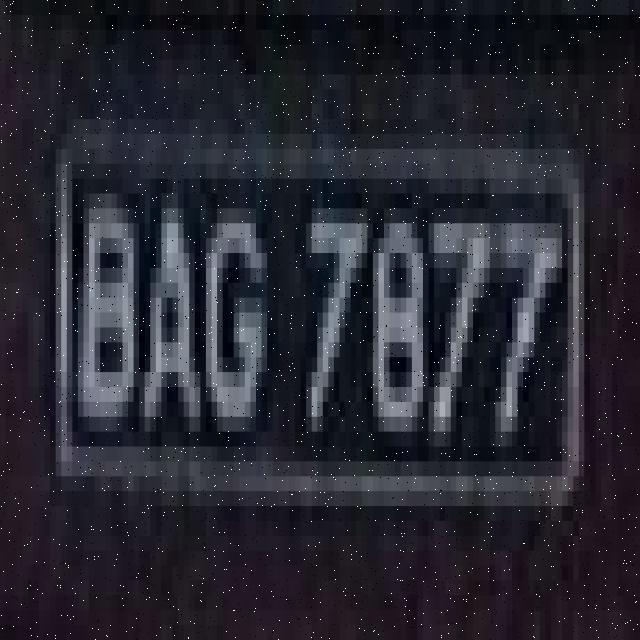LicensePlate: (27, 78, 607, 532)
